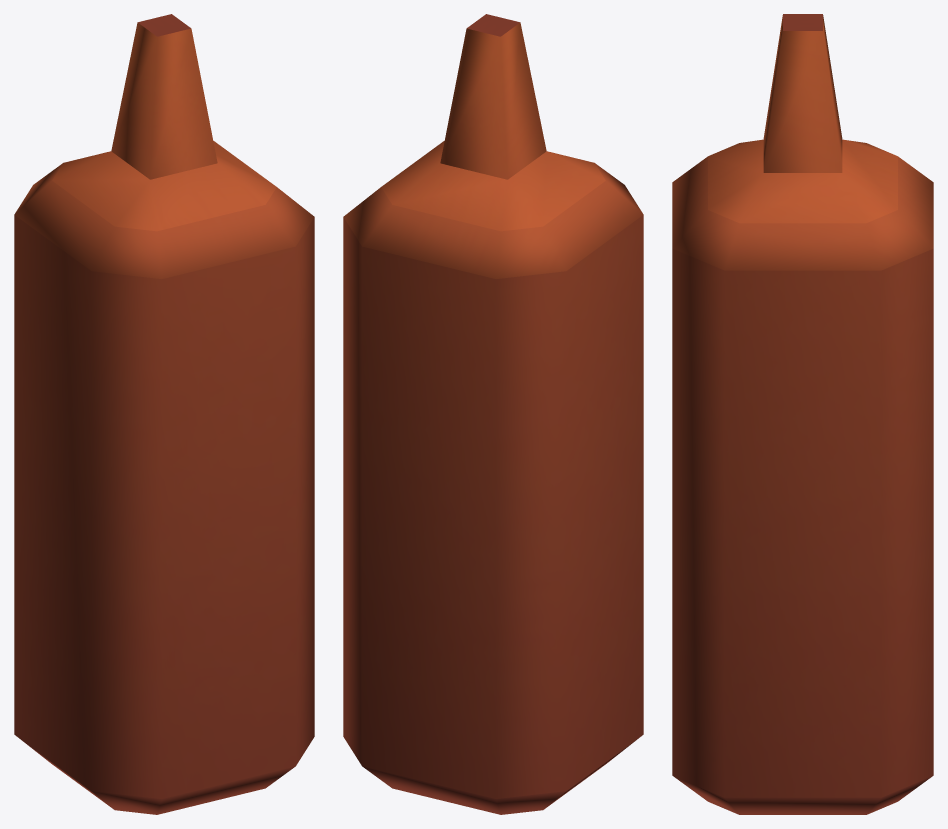
Rendered from ketchup.fbx.
The picture shows the model from 3 angles, left to right: view 1: azimuth 30°, elevation 25°; view 2: azimuth 150°, elevation 25°; view 3: azimuth 270°, elevation 25°; orthographic projection.
Visible parts, largest first — view 1: ketchup; view 2: ketchup; view 3: ketchup.
Boxes of the visible parts, x1=… form: ketchup: x1=14, y1=14, x2=314, y2=814; ketchup: x1=343, y1=14, x2=643, y2=814; ketchup: x1=672, y1=14, x2=933, y2=814.
Size of the model in its own units: 20 by 63.58 by 20.
